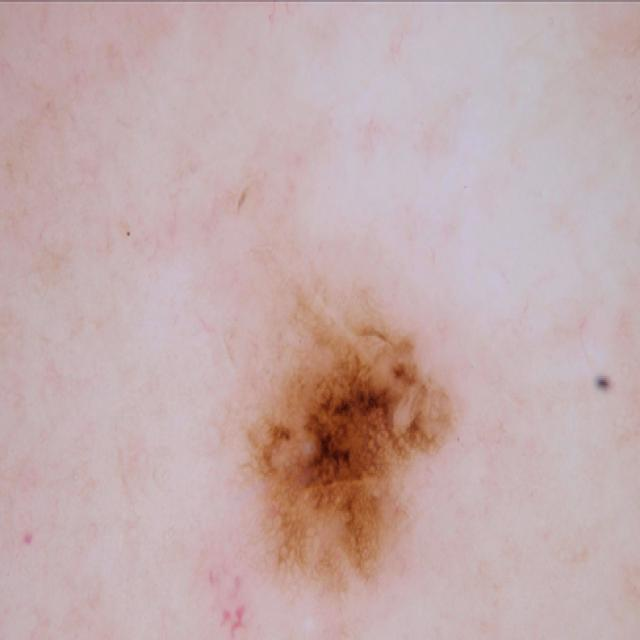Keratosis: (214, 276, 489, 618)
